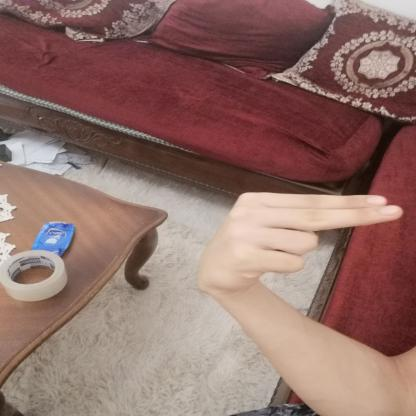AYN: (186, 177, 410, 299)
